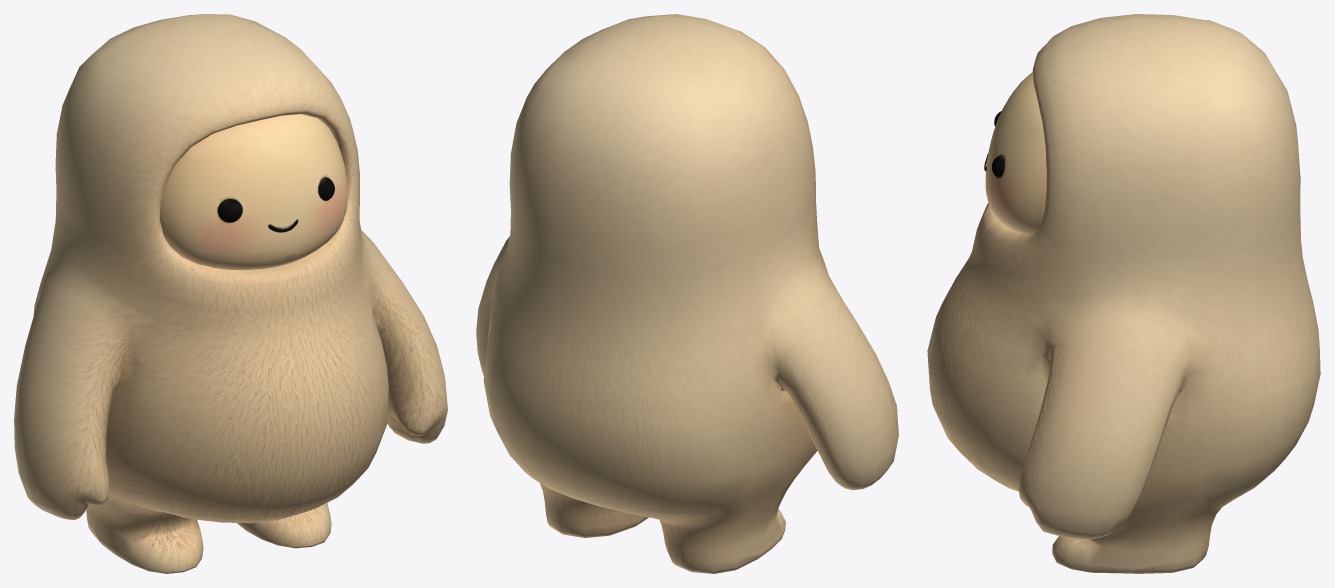
Rendered from sculpt.glb.
3 views of the same model, side by side, from view 1: azimuth 30°, elevation 25°; view 2: azimuth 150°, elevation 25°; view 3: azimuth 270°, elevation 25° (orthographic).
Visible parts, largest first — view 1: model_node_a9da118d-f1d3-45cd-92ab-6117e1ebc853; view 2: model_node_a9da118d-f1d3-45cd-92ab-6117e1ebc853; view 3: model_node_a9da118d-f1d3-45cd-92ab-6117e1ebc853.
Boxes of the visible parts, left/top/right/bottom form: model_node_a9da118d-f1d3-45cd-92ab-6117e1ebc853: left=14, top=14, right=447, bottom=573; model_node_a9da118d-f1d3-45cd-92ab-6117e1ebc853: left=476, top=14, right=898, bottom=573; model_node_a9da118d-f1d3-45cd-92ab-6117e1ebc853: left=927, top=14, right=1320, bottom=573.
Bounding box in the file's own units: 0.8491 × 0.9995 × 0.7192.
1 material, 1 textured.
